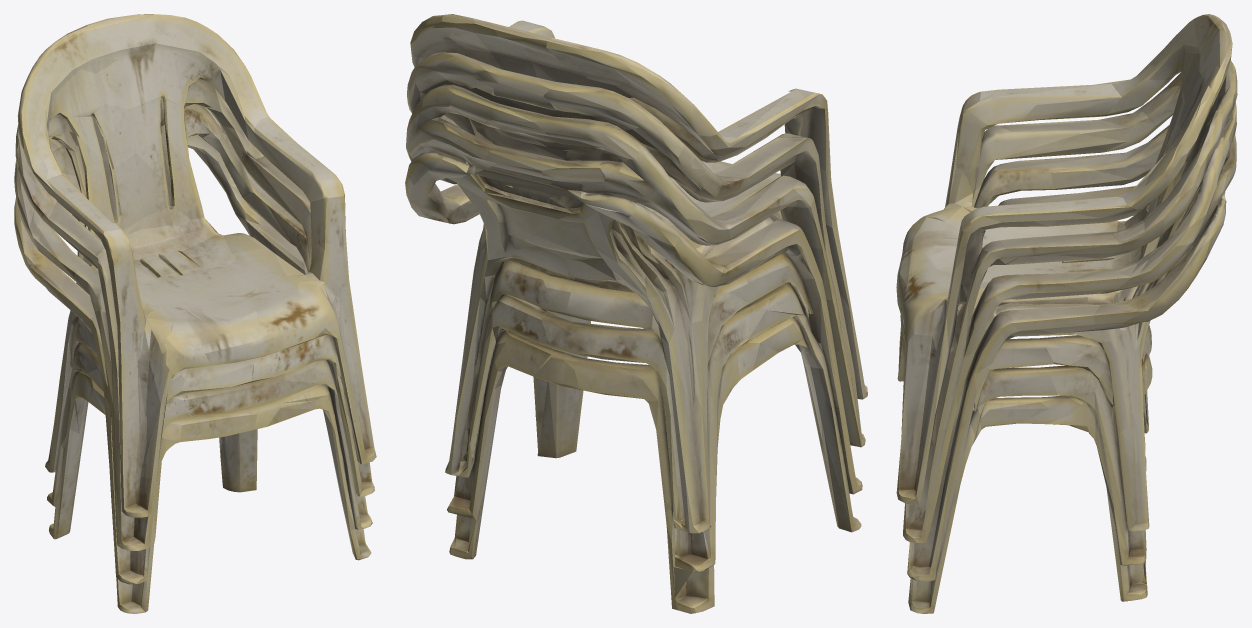
The model's file is sedie_impilate.glb.
3 renders of one model, left to right at view 1: azimuth 30°, elevation 25°; view 2: azimuth 150°, elevation 25°; view 3: azimuth 270°, elevation 25°, orthographic. The views are drawn at different scales.
Parts seen in each view (by area): view 1: Mesh_0; view 2: Mesh_0; view 3: Mesh_0.
Boxes of the visible parts, <box> form: Mesh_0: <box>14,14,376,613</box>; Mesh_0: <box>405,14,867,613</box>; Mesh_0: <box>896,14,1237,613</box>.
Size of the model in its own units: 1.09 by 1.9 by 1.16.
1 material, 1 textured.
